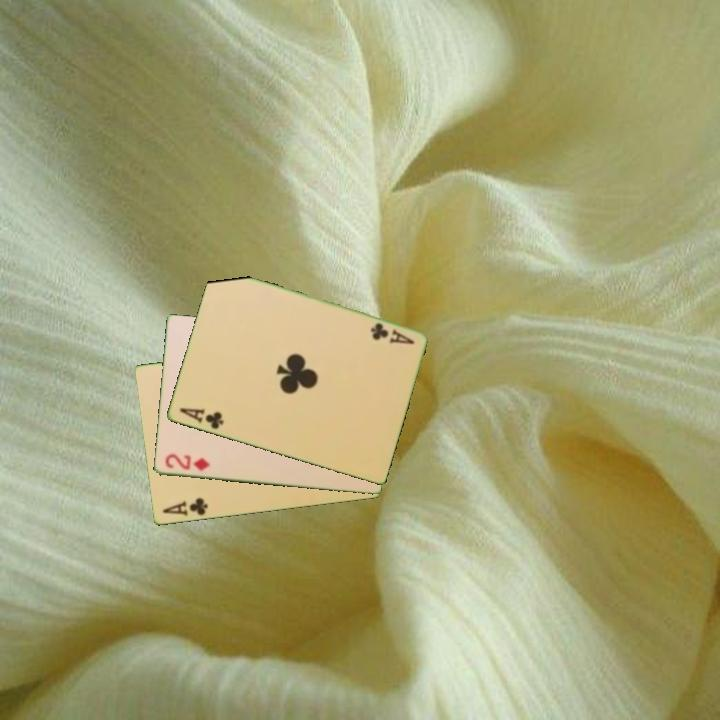2d: (161, 450, 212, 474)
Ac: (176, 404, 226, 432), (367, 319, 417, 347), (159, 495, 211, 519)
